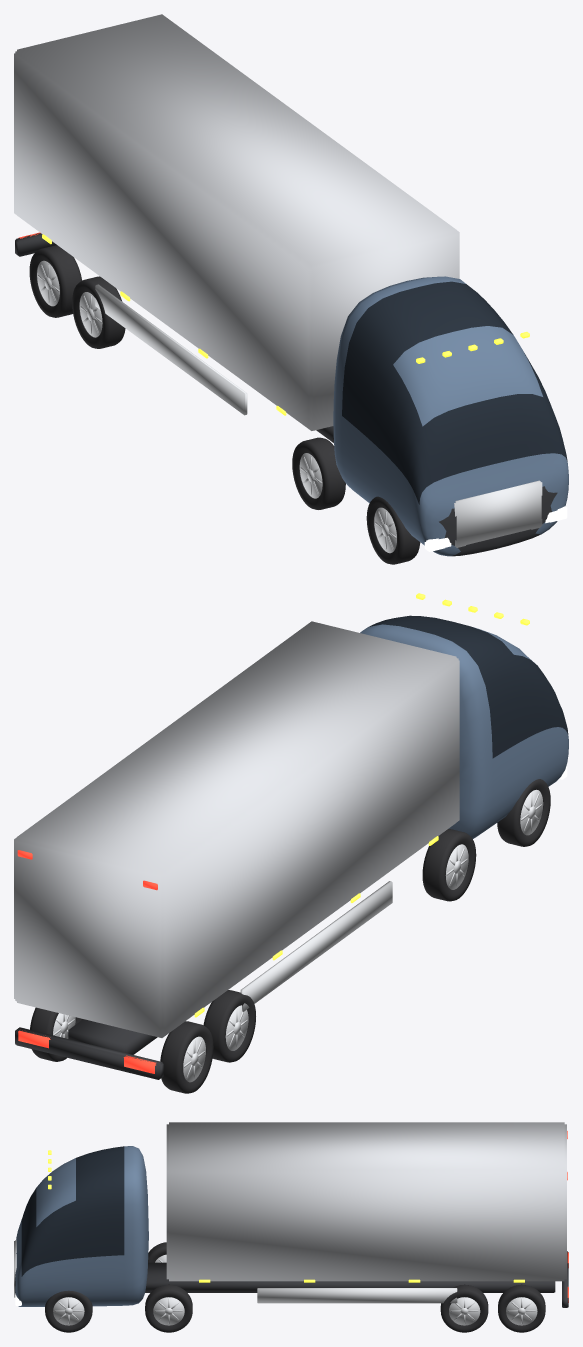
The model's file is traffic_truck.glb.
The picture shows the model from 3 angles, top to bottom: view 1: azimuth 30°, elevation 25°; view 2: azimuth 150°, elevation 25°; view 3: azimuth 270°, elevation 25°; orthographic projection. The views are drawn at different scales.
Parts seen in each view (by area): view 1: CargoTrailer, TruckCab, TruckGrille, SideGuardR, WheelDriveR_Tire, WheelTrail2R_Tire, WheelTrail1R_Tire, WheelFR_Tire, WheelDriveR_Rim, WheelFR_Rim, WheelTrail2R_Rim, WheelTrail1R_Rim; view 2: CargoTrailer, TruckCab, SideGuardR, WheelDriveR_Tire, WheelTrail2R_Tire, RearUnderrun, WheelTrail1R_Tire, ChassisFrame, WheelFR_Tire, WheelTrail2L_Tire, WheelTrail2R_Rim, WheelFR_Rim (+2 smaller); view 3: CargoTrailer, TruckCab, ChassisFrame, SideGuardL, WheelDriveL_Tire, WheelTrail2L_Tire, WheelTrail1L_Tire, WheelFL_Tire, WheelFL_Rim, WheelDriveL_Rim, WheelTrail2L_Rim, WheelTrail1L_Rim.
Part boxes in pixels (x1,y1,x2,y2): CargoTrailer: (14, 14, 459, 430); TruckCab: (333, 276, 568, 556); TruckGrille: (454, 480, 542, 547); SideGuardR: (95, 284, 247, 415); WheelDriveR_Tire: (292, 437, 345, 509); WheelTrail2R_Tire: (29, 245, 82, 317); WheelTrail1R_Tire: (72, 276, 125, 348); WheelFR_Tire: (366, 496, 420, 564); WheelDriveR_Rim: (299, 453, 322, 498); WheelFR_Rim: (374, 507, 396, 553); WheelTrail2R_Rim: (37, 260, 59, 306); WheelTrail1R_Rim: (79, 292, 102, 337); CargoTrailer: (14, 621, 459, 1037); TruckCab: (360, 615, 568, 838); SideGuardR: (240, 881, 392, 1011); WheelDriveR_Tire: (422, 829, 476, 901); WheelTrail2R_Tire: (160, 1021, 213, 1093); RearUnderrun: (15, 1027, 163, 1079); WheelTrail1R_Tire: (203, 990, 255, 1062); ChassisFrame: (68, 1019, 157, 1054); WheelFR_Tire: (497, 779, 550, 846); WheelTrail2L_Tire: (30, 1007, 82, 1061); WheelTrail2R_Rim: (183, 1036, 205, 1082); WheelFR_Rim: (520, 789, 543, 835); CargoTrailer: (166, 1122, 566, 1281); TruckCab: (15, 1146, 148, 1306); ChassisFrame: (145, 1262, 555, 1292); SideGuardL: (257, 1288, 457, 1303); WheelDriveL_Tire: (145, 1284, 192, 1332); WheelTrail2L_Tire: (498, 1284, 545, 1332); WheelTrail1L_Tire: (440, 1284, 488, 1332); WheelFL_Tire: (45, 1290, 92, 1332); WheelFL_Rim: (53, 1297, 84, 1325); WheelDriveL_Rim: (153, 1297, 184, 1325); WheelTrail2L_Rim: (506, 1297, 537, 1325); WheelTrail1L_Rim: (449, 1297, 480, 1325).
Size of the model in its own units: 2.51 by 3.77 by 11.64.
